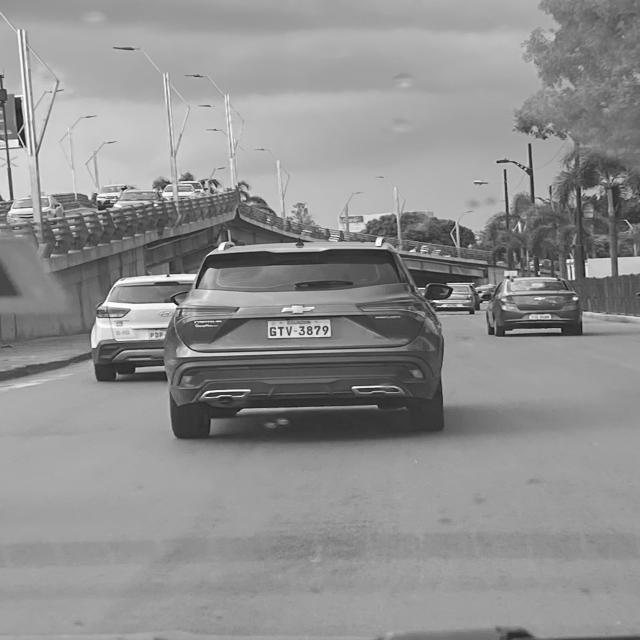Placa: (268, 319, 331, 338), (149, 330, 165, 339), (529, 314, 552, 320)
